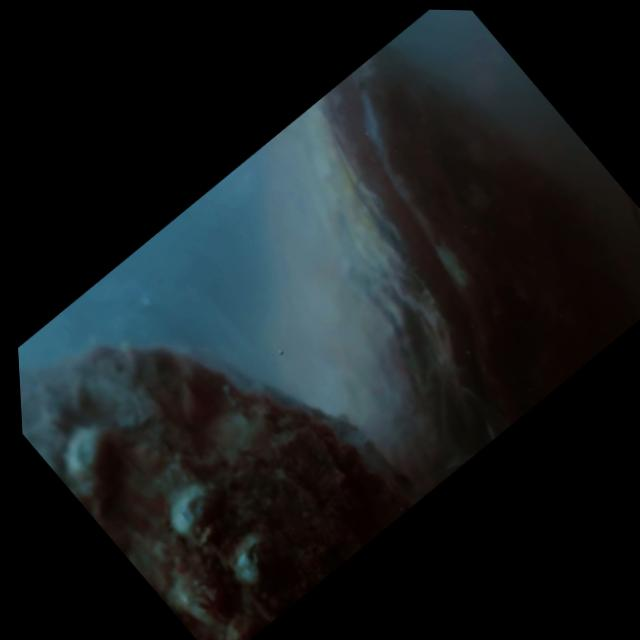Oyster-Closed: (267, 48, 639, 457), (19, 324, 423, 640)
